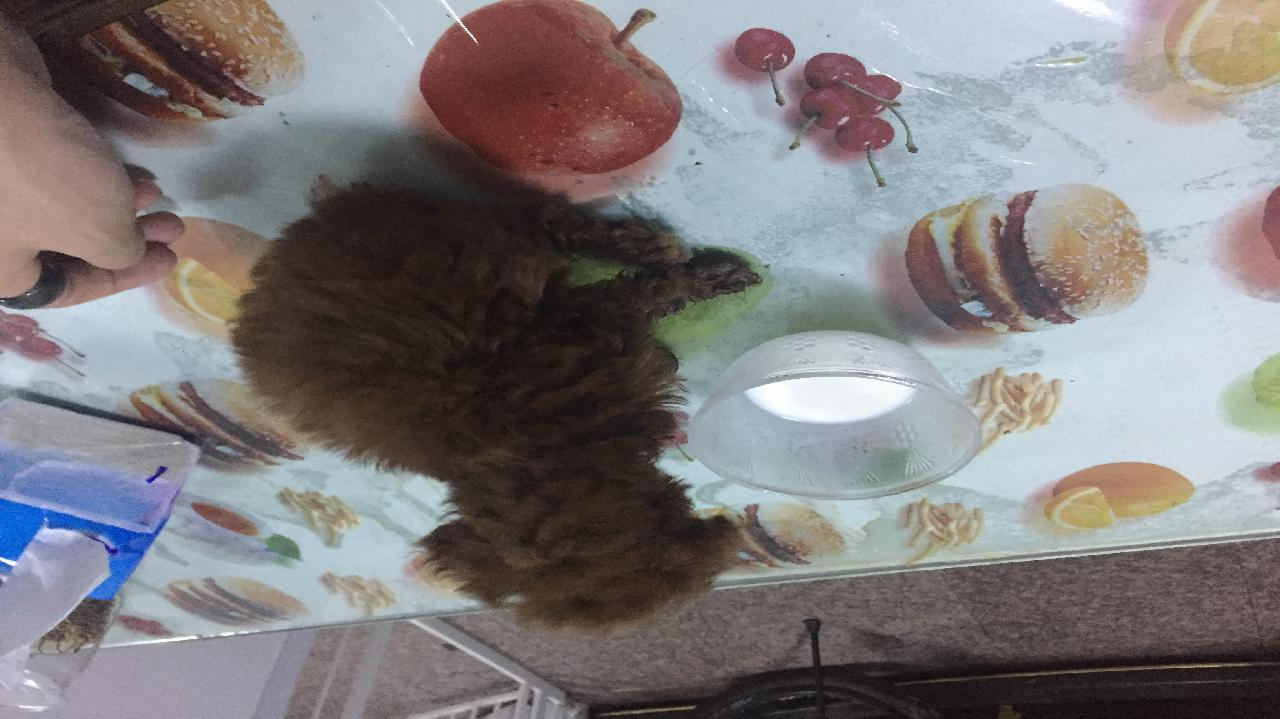coin: (231, 175, 767, 642)
